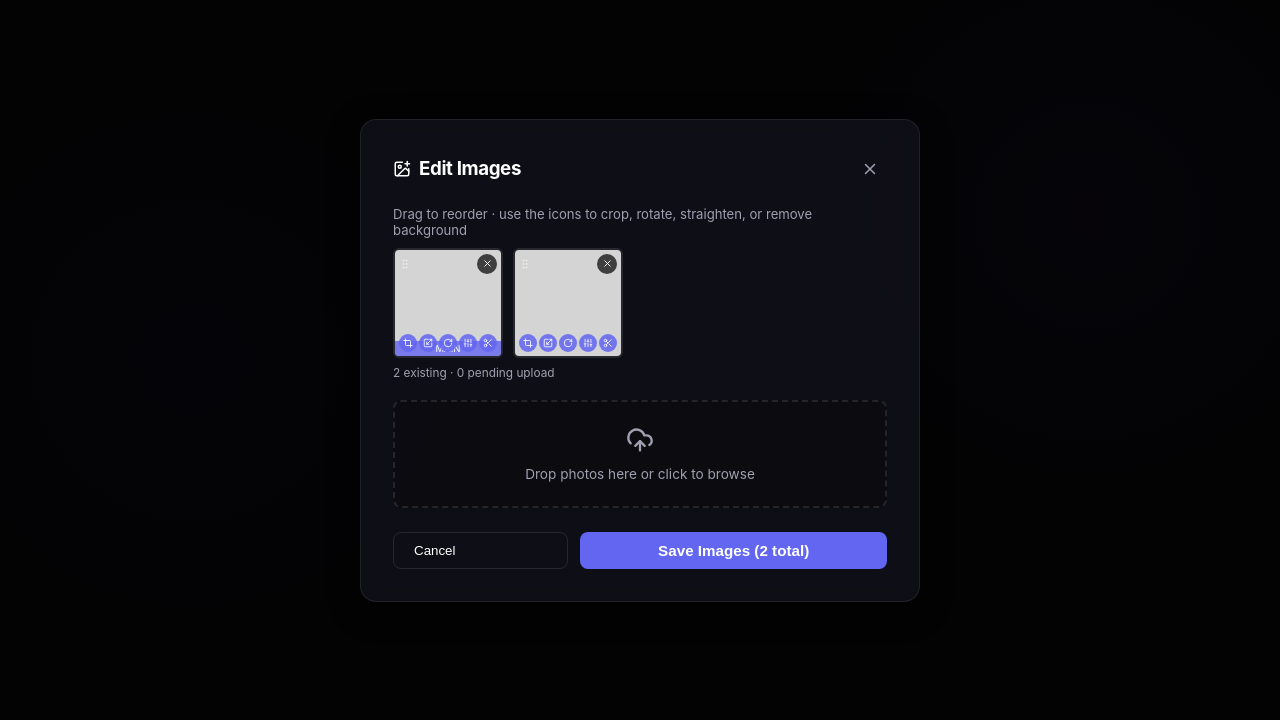
ImageEditModal › removes an image when its X button is clicked
The width and height of the screenshot is (1280, 720).
Click the button named "Remove image 1" at (487, 264), box 477,254 -> 497,274
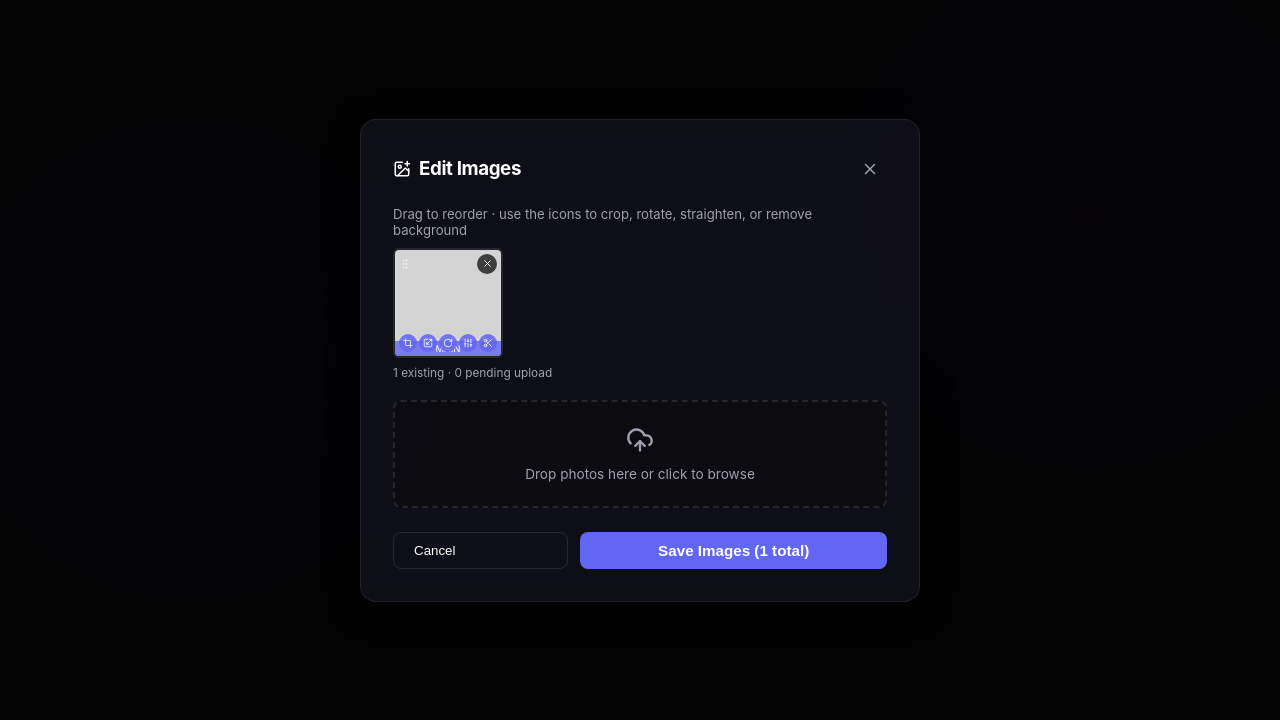
Expected: the text "MAIN" is shown once, 395,340 -> 501,356
